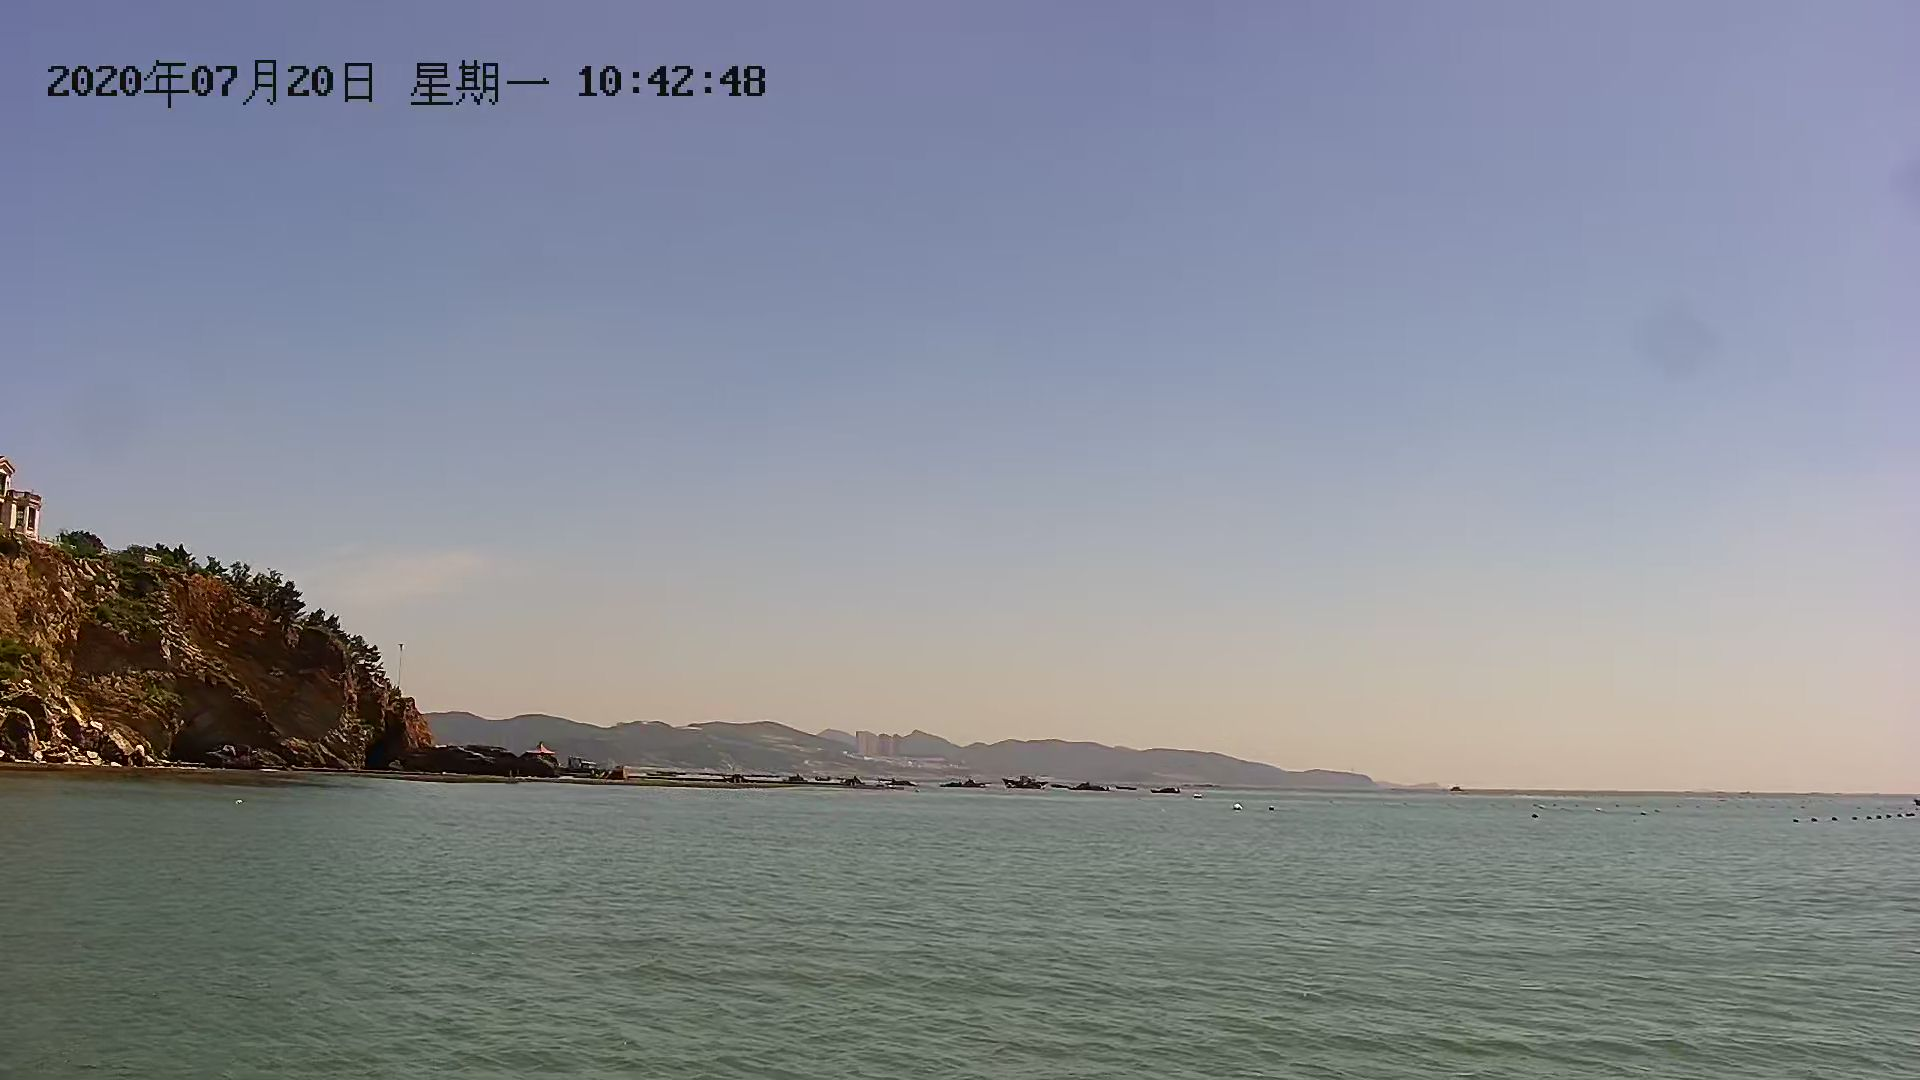rubbish: (1073, 777, 1110, 796), (949, 777, 990, 793)
ship: (996, 770, 1054, 791)
